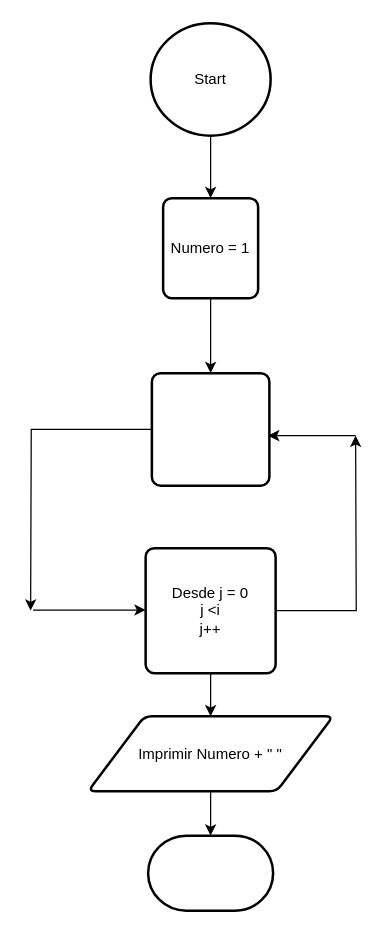
Some shapes in this 389 by 933 pixel diagram are drawn without their labels. Each missing label, with the centre of its shape:
"Desde i = 0 Hasta i <= 4 i++" belongs at (210,428).
"Fin" belongs at (210,872).
